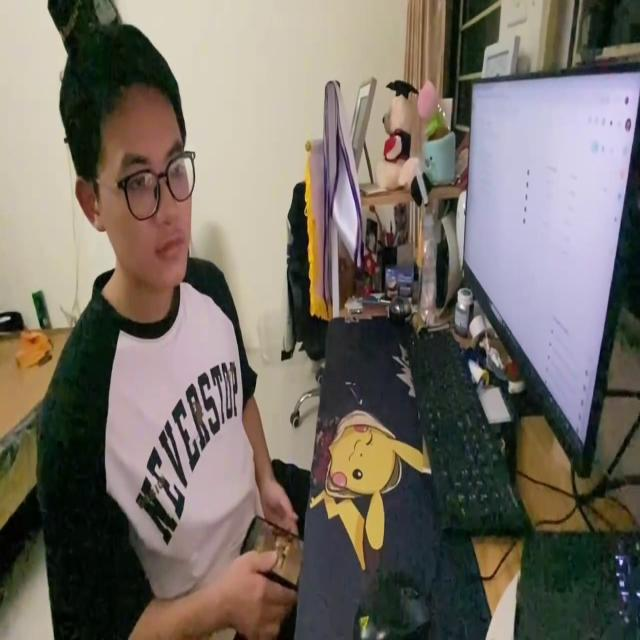laptop: (458, 52, 640, 478)
phone: (240, 511, 304, 589)
student: (35, 21, 310, 640)
